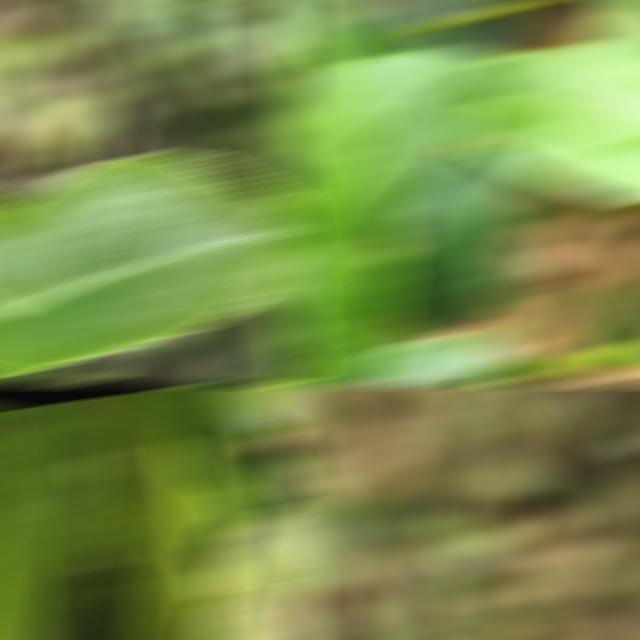Leaf: (0, 155, 306, 374), (282, 31, 399, 382), (84, 391, 227, 638), (325, 49, 508, 219), (454, 48, 640, 201), (375, 150, 531, 327), (0, 402, 96, 638), (153, 386, 257, 545), (205, 503, 306, 638), (282, 498, 376, 583), (355, 336, 519, 382), (402, 537, 467, 638), (208, 386, 306, 440), (414, 15, 540, 51), (103, 2, 182, 45), (596, 287, 640, 360), (366, 2, 509, 22)
